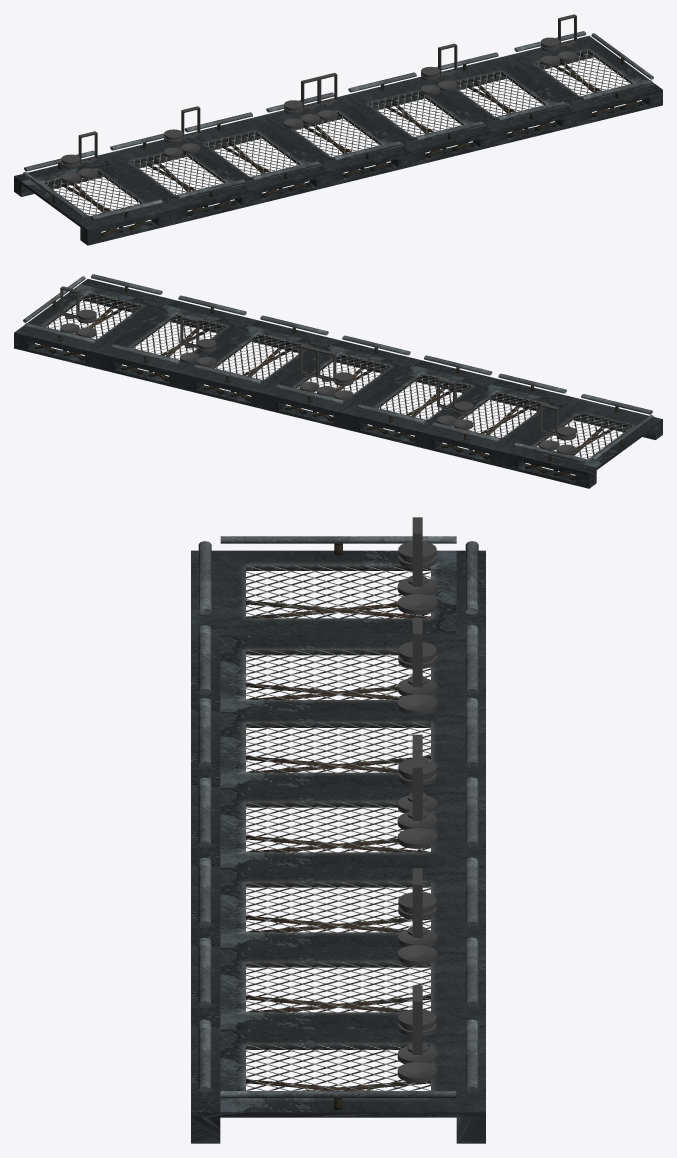
The model's file is Tutorial2.fbx.
The picture shows the model from 3 angles, top to bottom: view 1: azimuth 30°, elevation 25°; view 2: azimuth 150°, elevation 25°; view 3: azimuth 270°, elevation 25°; orthographic projection. The views are drawn at different scales.
Visible parts, largest first — view 1: TutorialFloor__0, DisplayBoard_Pause__0, DisplayBoard_Build__0, DisplayBoard_Move__0, DisplayBoard_Inventory__0, DisplayBoard_Items__0, DisplayBoard_Shoot__0, ControllerPillar_Move__0, ControllerPillar_Pause__0, ControllerPillar_Shoot__0, ControllerPillar_Switch__0, ControllerPillar_Build__0; view 2: TutorialFloor__0, DisplayBoard_Move__0, DisplayBoard_Build__0, DisplayBoard_Shoot__0, DisplayBoard_Inventory__0, DisplayBoard_Pause__0, ControllerPillar_Pause__0, ControllerPillar_Shoot__0, ControllerPillar_Switch__0, ControllerPillar_Move__0, ControllerPillar_Build__0, DisplayBoard_Items__0; view 3: TutorialFloor__0, DisplayBoard_Shoot__0, DisplayBoard_Pause__0, DisplayBoard_Build__0, DisplayBoard_Move__0, DisplayBoard_Items__0, ControllerPillar_Move__0, ControllerPillar_Shoot__0, ControllerPillar_Pause__0, ControllerPillar_Build__0, ControllerPillar_Switch__0.
Boxes of the visible parts, <box> form: TutorialFloor__0: <box>14,31,662,245</box>; DisplayBoard_Pause__0: <box>181,106,200,153</box>; DisplayBoard_Build__0: <box>438,43,457,90</box>; DisplayBoard_Move__0: <box>78,131,97,178</box>; DisplayBoard_Inventory__0: <box>301,77,320,124</box>; DisplayBoard_Items__0: <box>318,73,337,120</box>; DisplayBoard_Shoot__0: <box>558,14,577,61</box>; ControllerPillar_Move__0: <box>61,154,80,183</box>; ControllerPillar_Pause__0: <box>164,129,183,157</box>; ControllerPillar_Shoot__0: <box>540,37,559,65</box>; ControllerPillar_Switch__0: <box>284,100,303,128</box>; ControllerPillar_Build__0: <box>421,66,440,95</box>; TutorialFloor__0: <box>14,274,662,488</box>; DisplayBoard_Move__0: <box>539,403,558,450</box>; DisplayBoard_Build__0: <box>180,315,199,362</box>; DisplayBoard_Shoot__0: <box>60,286,79,333</box>; DisplayBoard_Inventory__0: <box>317,349,336,396</box>; DisplayBoard_Pause__0: <box>437,378,456,425</box>; ControllerPillar_Pause__0: <box>454,401,473,429</box>; ControllerPillar_Shoot__0: <box>77,309,96,337</box>; ControllerPillar_Switch__0: <box>334,372,353,400</box>; ControllerPillar_Move__0: <box>556,426,575,454</box>; ControllerPillar_Build__0: <box>197,339,216,367</box>; DisplayBoard_Items__0: <box>300,345,319,392</box>; TutorialFloor__0: <box>191,536,485,1143</box>; DisplayBoard_Shoot__0: <box>397,985,437,1082</box>; DisplayBoard_Pause__0: <box>397,617,437,714</box>; DisplayBoard_Build__0: <box>397,868,437,965</box>; DisplayBoard_Move__0: <box>397,517,437,614</box>; DisplayBoard_Items__0: <box>397,751,437,848</box>; ControllerPillar_Move__0: <box>397,541,437,595</box>; ControllerPillar_Shoot__0: <box>397,1009,437,1063</box>; ControllerPillar_Pause__0: <box>397,641,437,696</box>; ControllerPillar_Build__0: <box>397,892,437,946</box>; ControllerPillar_Switch__0: <box>397,758,437,813</box>.
Size of what is drawn, in the model's own units: 33.6 by 3.14 by 7.46.
12 materials, 12 textured.
